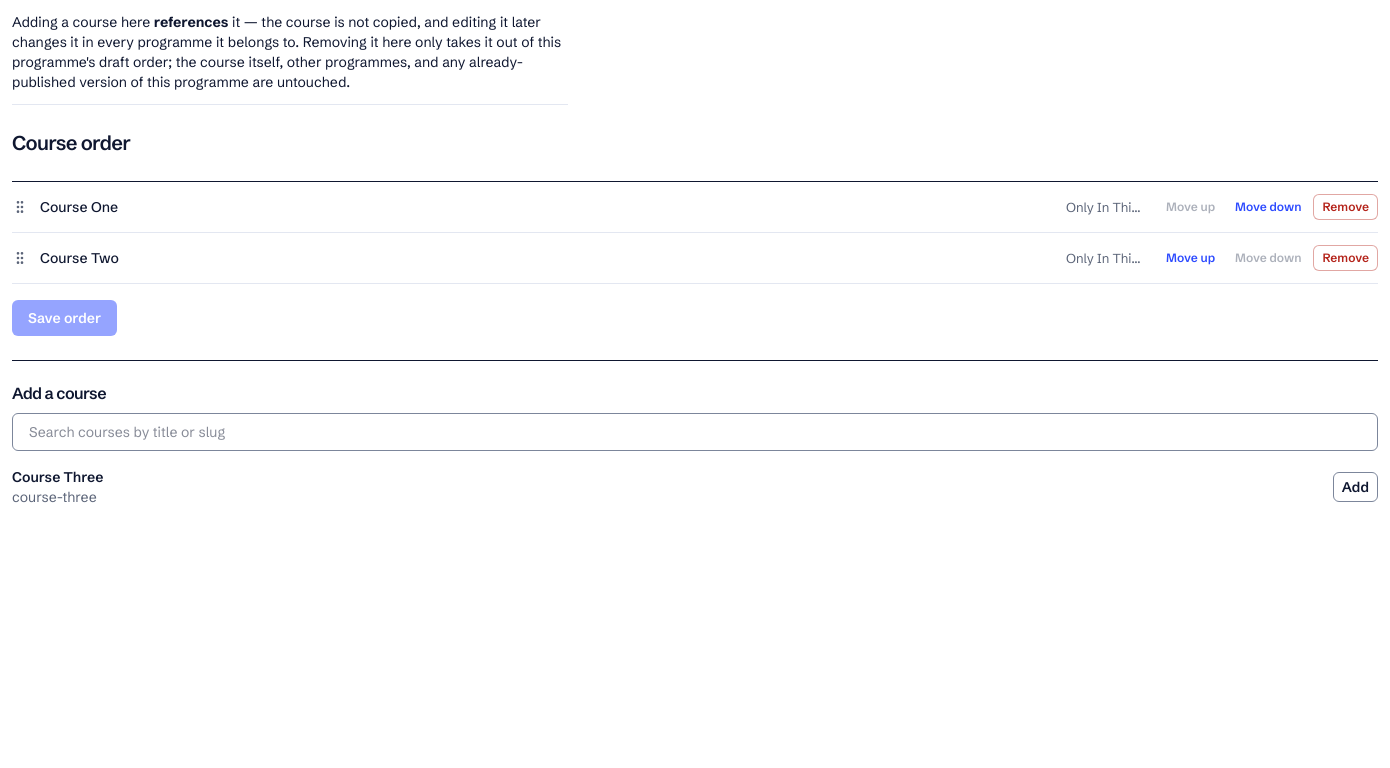
Test: ProgrammeArrangeClient — rejected remove course recovers › clears the busy row, surfaces a generic retryable alert, and a user retry succeeds
Click the button with aria-label "Remove Course One from this programme" at [1346, 207], box [1314,194,1378,220]
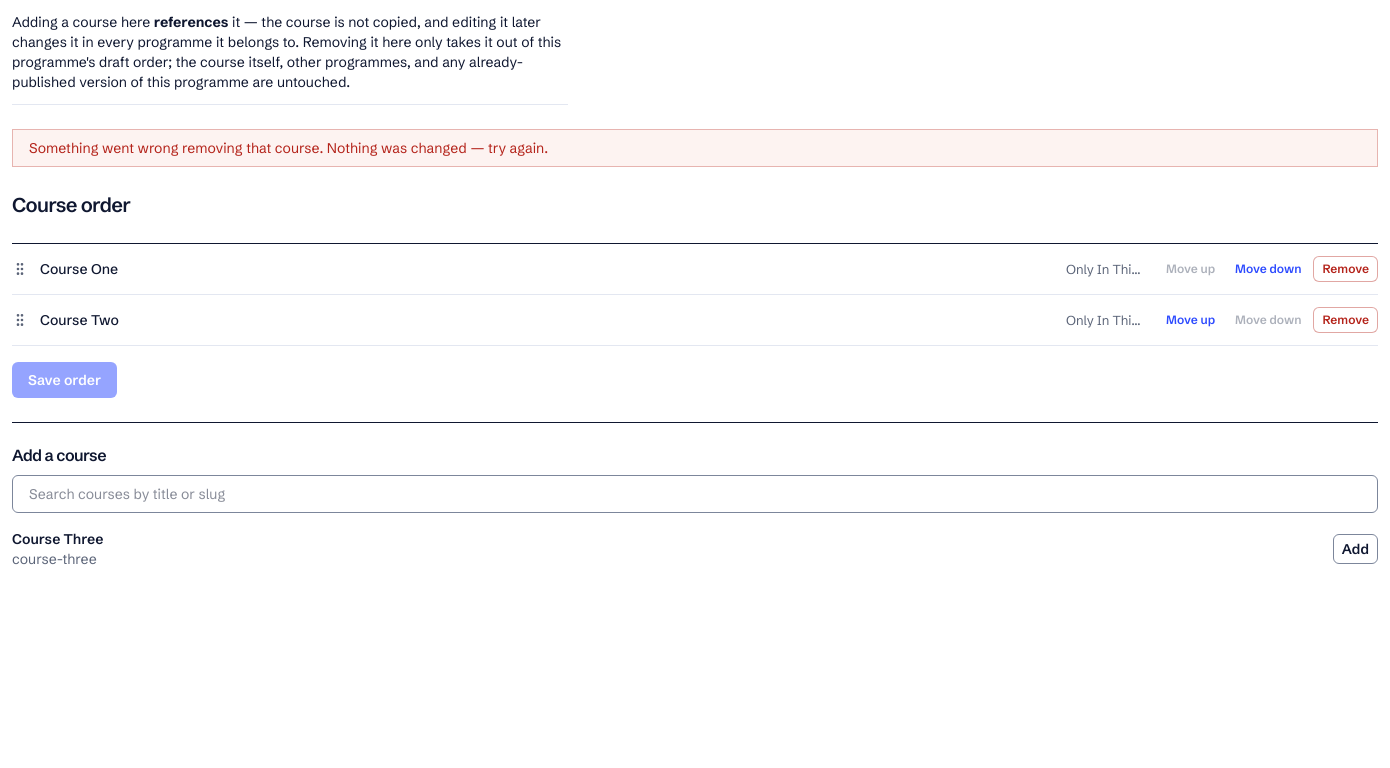
Expected: the message shows "try again", [29,139,548,157]
Click the button with aria-label "Remove Course One from this programme" at [1346, 269], box [1314,256,1378,282]
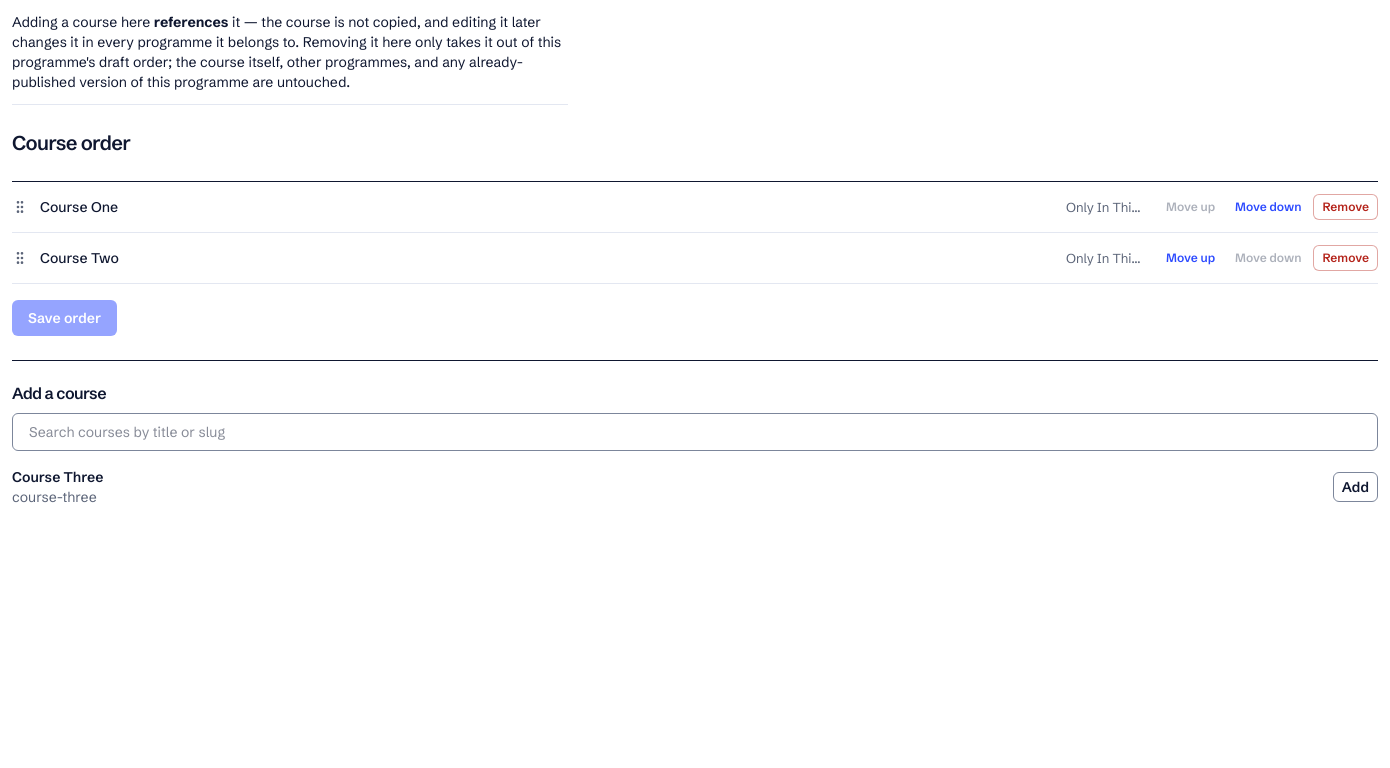
Expected: the message "Something went wrong removing that course. Nothing was changed — try again." is gone
